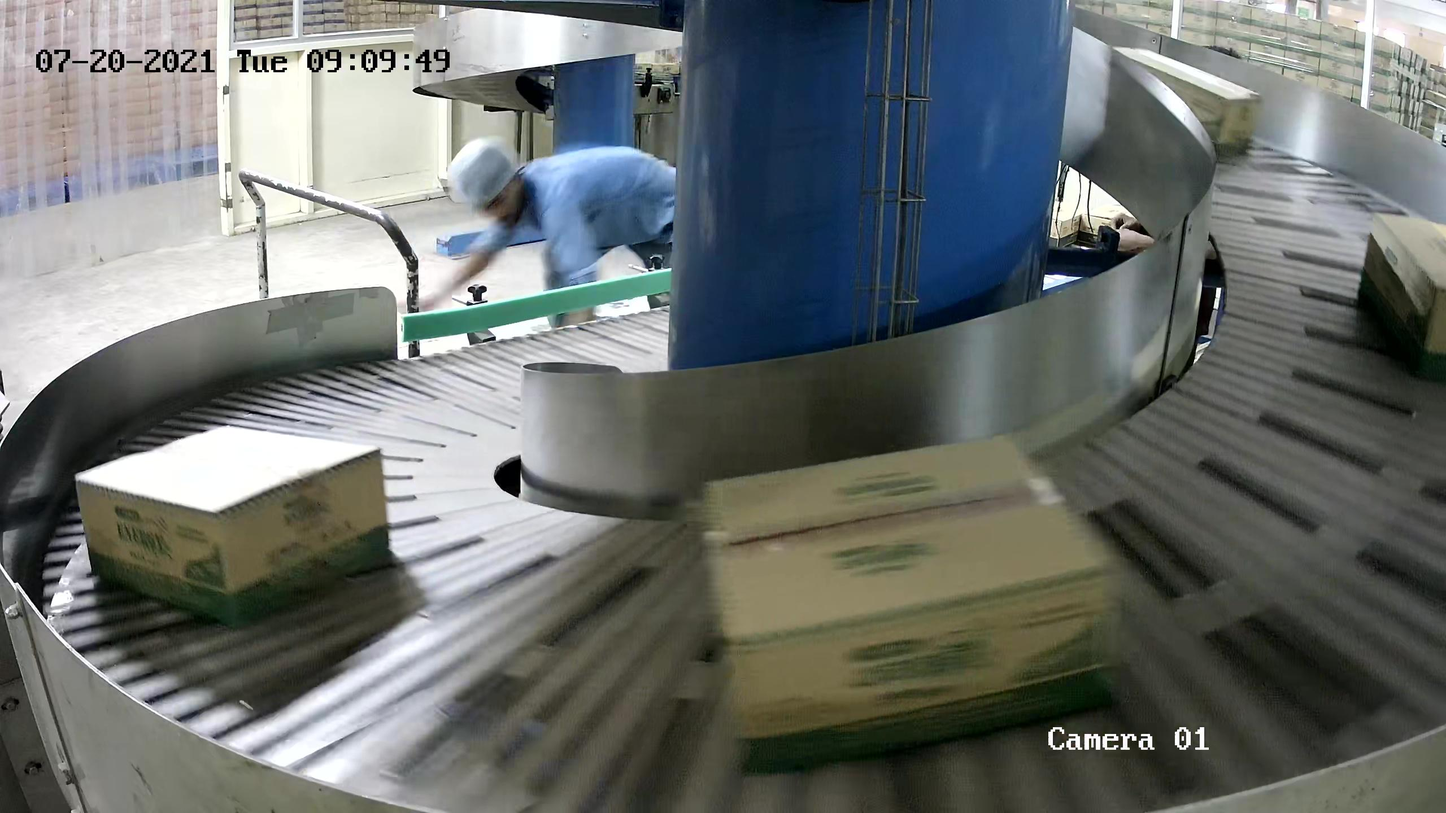Box: (701, 429, 1122, 777), (72, 423, 392, 629), (1109, 45, 1261, 159), (1358, 210, 1446, 382)
